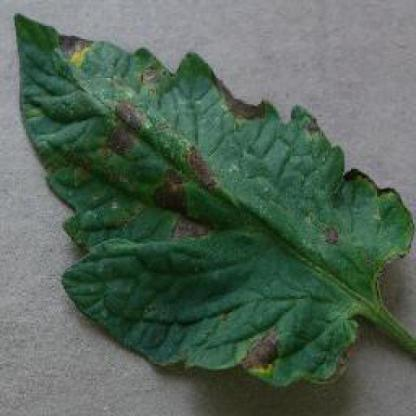Tomato_Blight: (15, 14, 415, 387)
